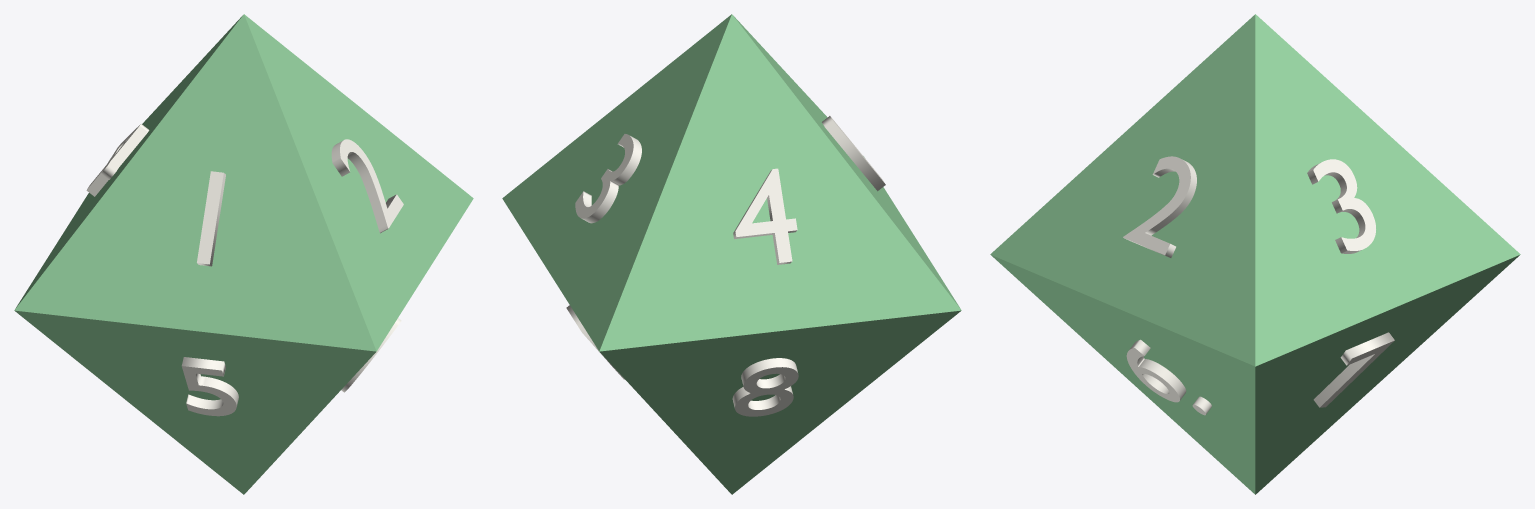
Rendered from Dice_D8.glb.
3 renders of one model, left to right at view 1: azimuth 30°, elevation 25°; view 2: azimuth 150°, elevation 25°; view 3: azimuth 270°, elevation 25°, orthographic.
Visible parts, largest first — view 1: Dice_D8; view 2: Dice_D8; view 3: Dice_D8.
Boxes of the visible parts, box(x1,y1,x2,y2) form: Dice_D8: box(14, 14, 473, 494); Dice_D8: box(502, 14, 961, 494); Dice_D8: box(990, 14, 1520, 494).
Size of the model in its own units: 1 by 1 by 1.
